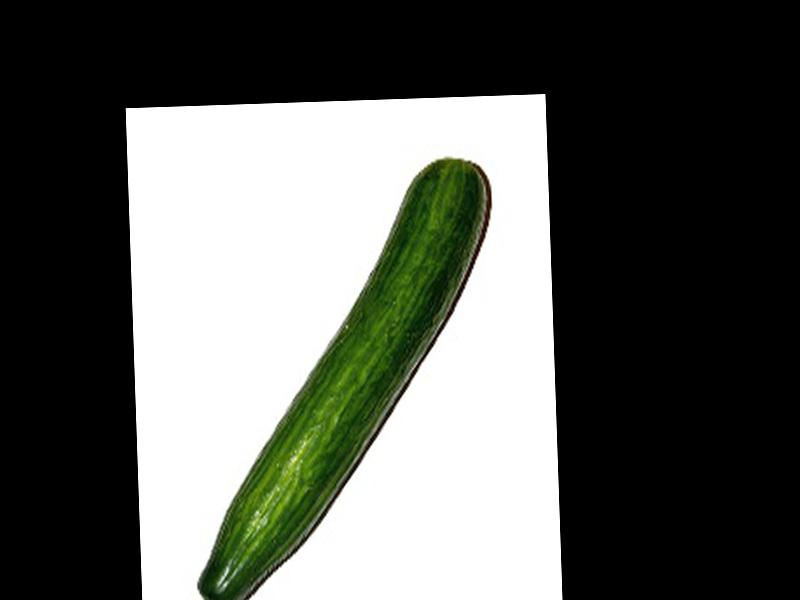Cucumber: (183, 157, 503, 600)
